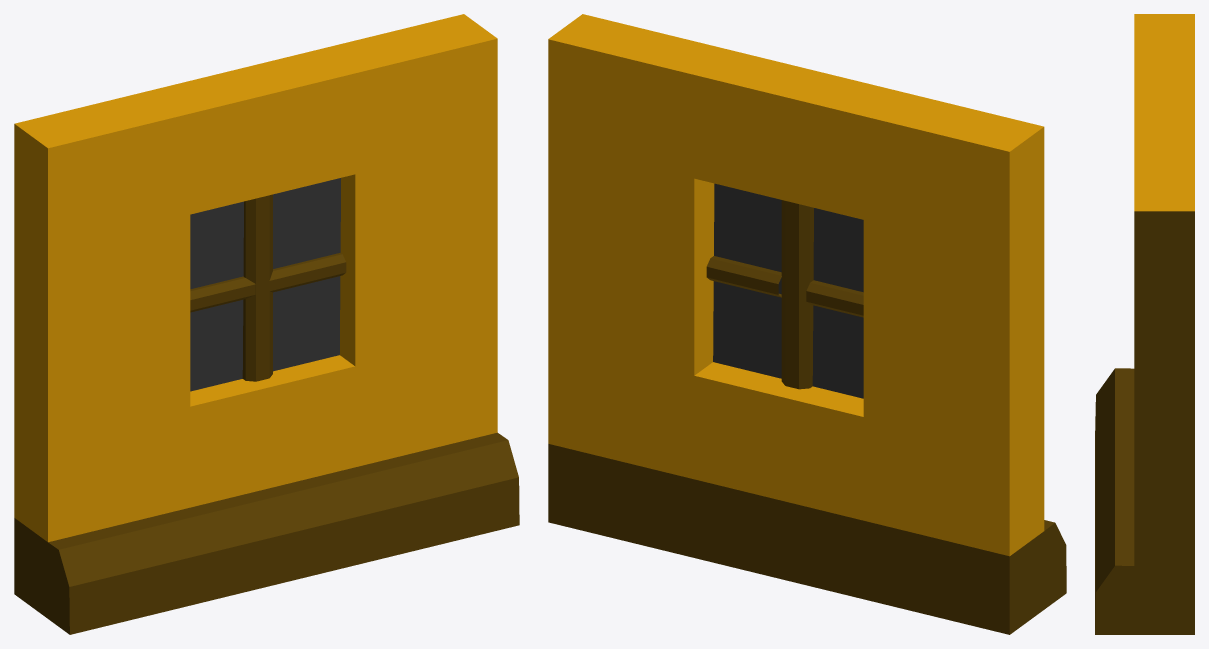
The model's file is Wall Window Ground.fbx.
3 views of the same model, side by side, from view 1: azimuth 30°, elevation 25°; view 2: azimuth 150°, elevation 25°; view 3: azimuth 270°, elevation 25° (orthographic). The views are drawn at different scales.
Visible parts, largest first — view 1: Cube.006, Plane.002, Cube.007; view 2: Cube.006, Plane.002, Cube.007; view 3: Cube.006.
Part boxes in pixels (<box>): Cube.006: <box>14,14,519,634</box>; Plane.002: <box>190,178,340,391</box>; Cube.007: <box>190,194,346,381</box>; Cube.006: <box>548,14,1066,634</box>; Plane.002: <box>713,183,863,398</box>; Cube.007: <box>706,200,863,389</box>; Cube.006: <box>1095,14,1194,634</box>.
Size of the model in its own units: 200 by 200 by 42.8.
